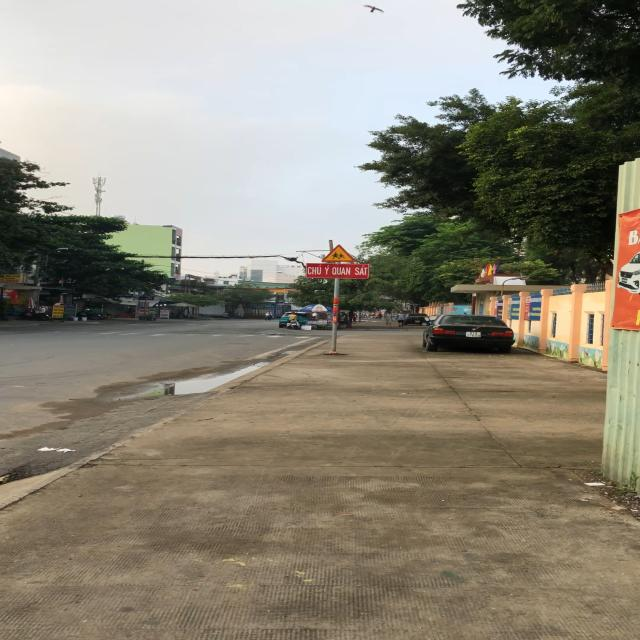Bien bao tre em: (320, 244, 359, 263)
